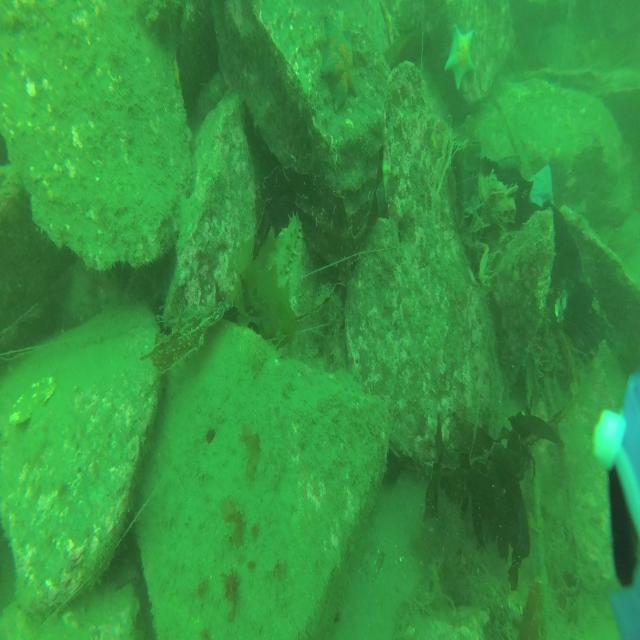holothurian: (275, 208, 302, 276)
starfish: (320, 14, 360, 113), (442, 21, 476, 91)
